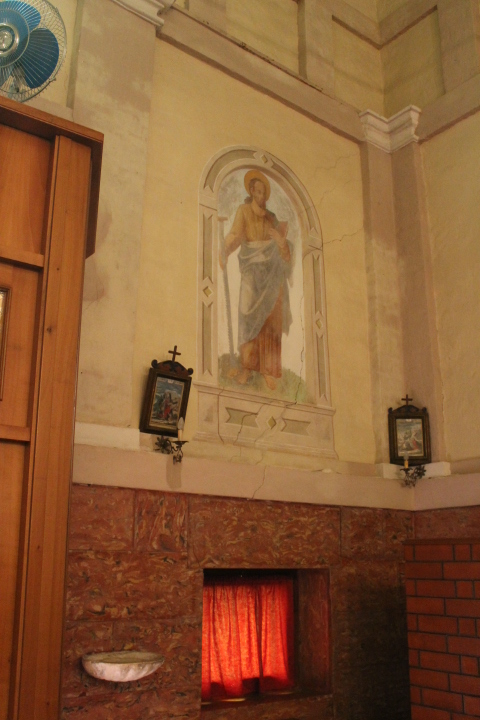Crack: (108, 139, 399, 569)
